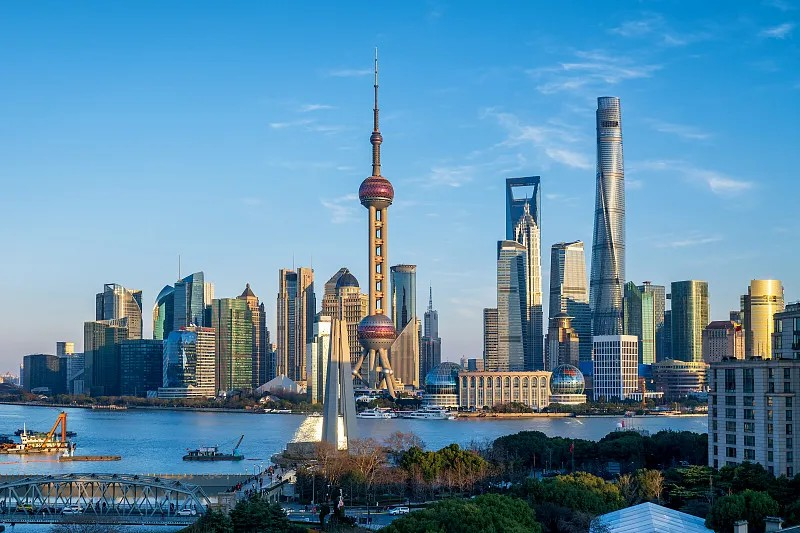Oriental: (352, 46, 398, 396)
